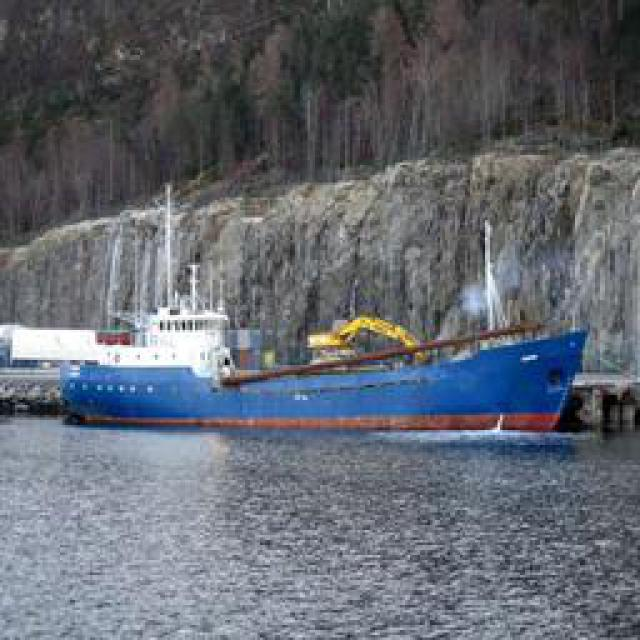Ship: (67, 311, 590, 436)
